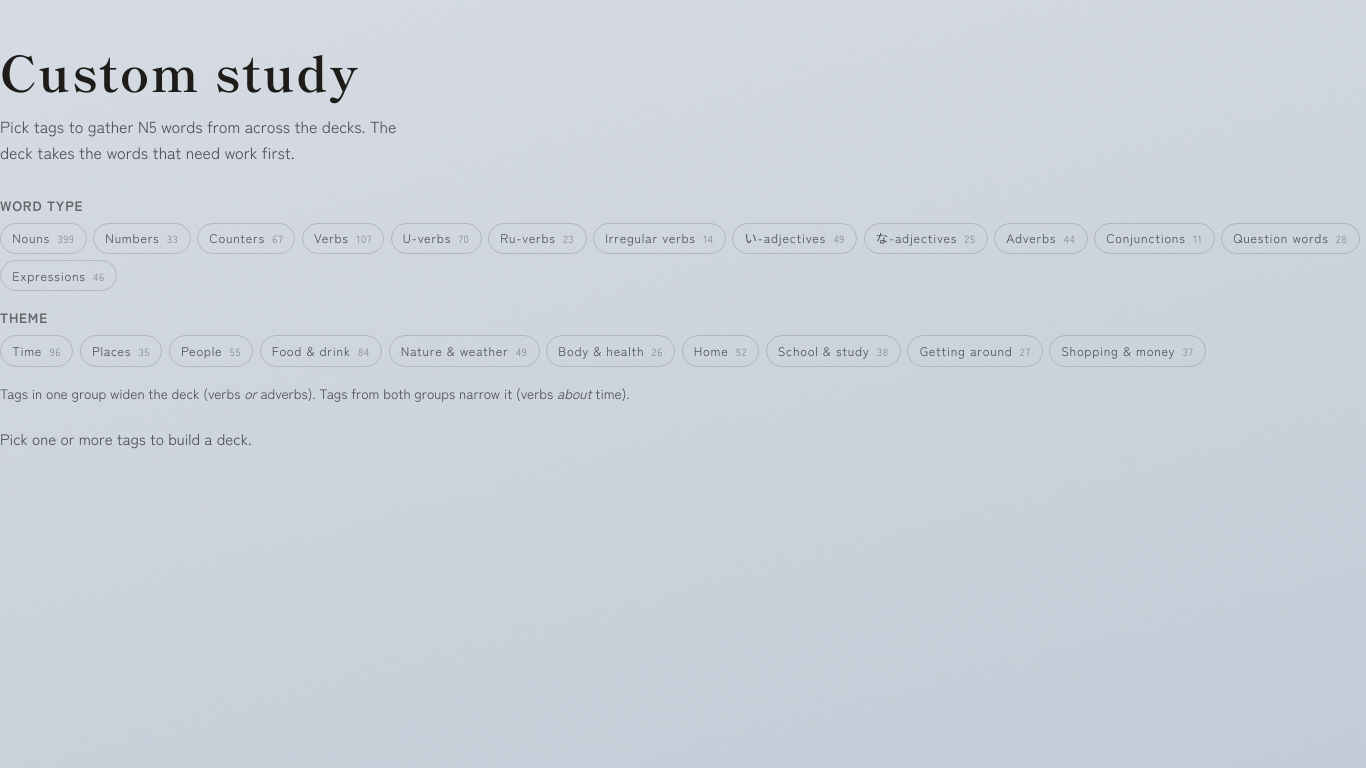
Test: CustomView › builds a 20-word deck as tags are picked, and narrows across groups
Click the button with class "tag-chip" showing "Verbs 107" at (343, 238), box [302,223,384,254]
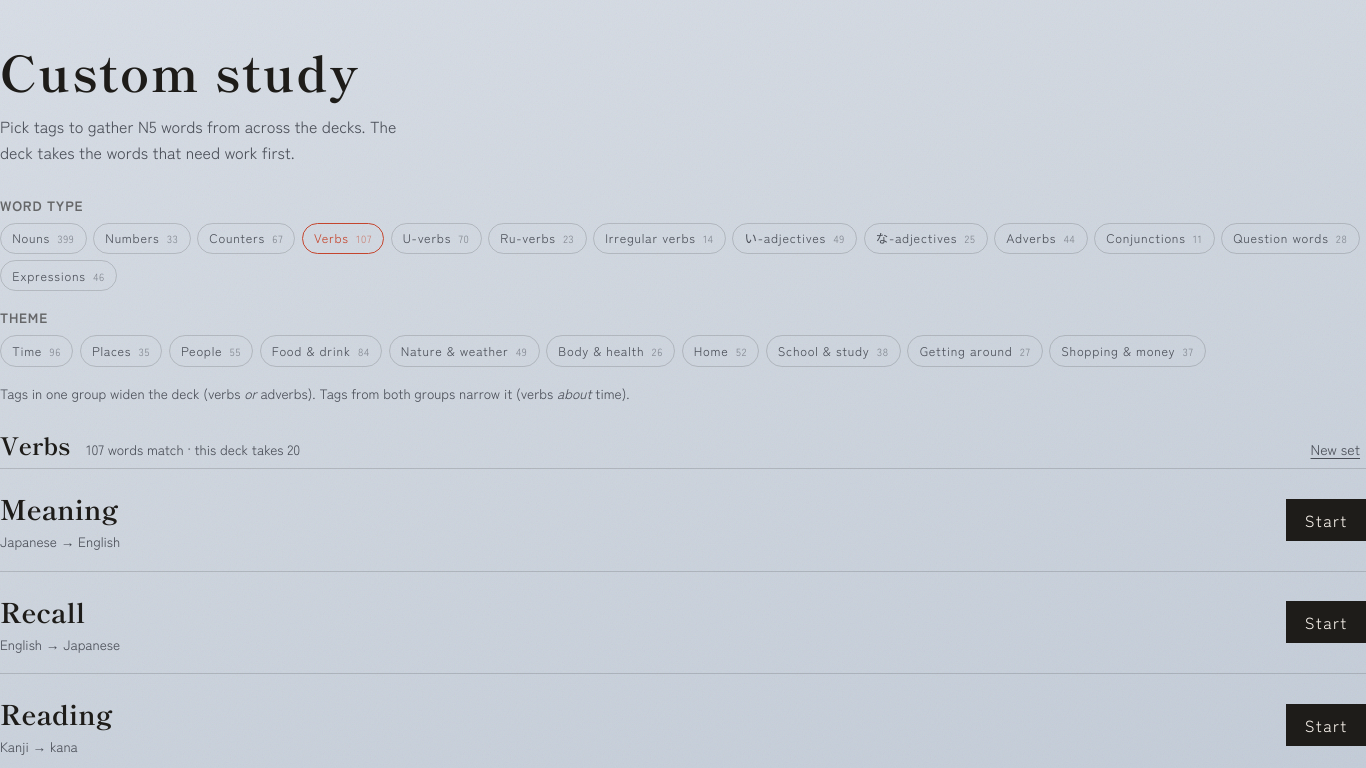
expect the button with class "tag-chip" is pressed: met, box [302,223,384,254]
Click the button with class "tag-chip" showing "Food & drink 84" at (321, 351), box [260,335,382,367]
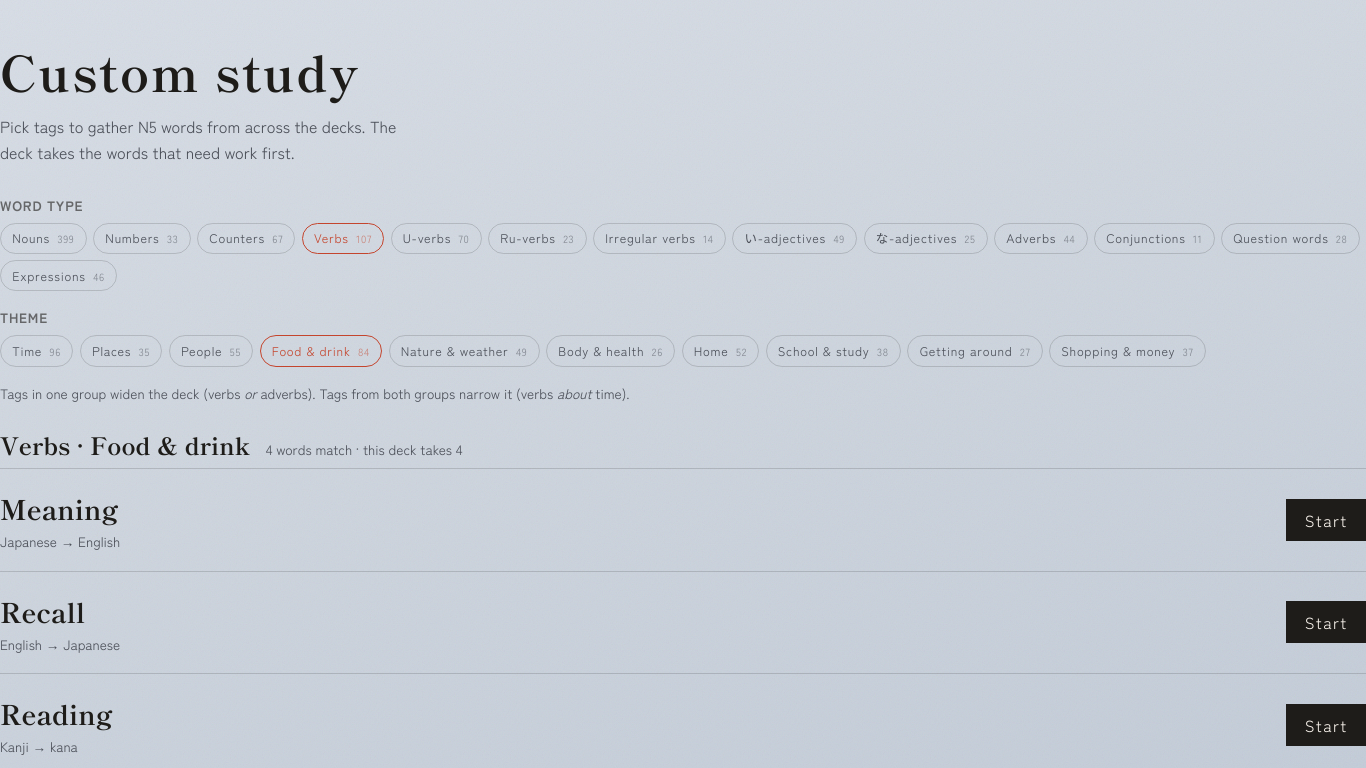
expect the heading "Verbs · Food & drink" is shown: met, box [0,426,250,462]
